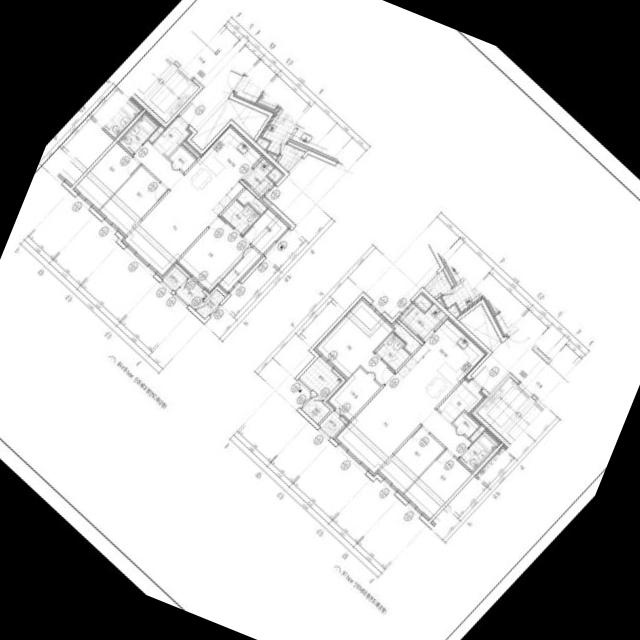background: (0, 0, 640, 640)
space_balconi: (299, 358, 341, 400), (175, 279, 206, 309)
space_bedroom: (316, 300, 393, 385), (178, 217, 250, 291), (403, 450, 471, 518), (99, 166, 166, 235), (378, 427, 444, 493), (74, 143, 139, 209)
space_dressroom: (328, 367, 380, 420), (218, 248, 260, 291)
space_elevator: (476, 377, 533, 434), (143, 65, 198, 123)
space_elevator_hall: (458, 304, 585, 419), (169, 32, 268, 150)
space_front: (437, 380, 483, 422), (153, 117, 189, 157)
space_kitchen: (396, 319, 484, 408), (179, 127, 261, 215)
space_living_room: (336, 373, 471, 473), (124, 141, 217, 275)
space_multipurpose_space: (398, 304, 446, 341), (242, 158, 273, 197)
space_other: (242, 209, 287, 254), (392, 322, 419, 354), (196, 290, 224, 319), (301, 396, 329, 424), (168, 145, 196, 172), (236, 189, 266, 214), (452, 412, 478, 437), (414, 294, 431, 312), (469, 426, 484, 442), (148, 126, 163, 142), (267, 168, 281, 182)
space_outdoor_room: (319, 412, 344, 438), (162, 266, 186, 291)
space_toilet: (458, 431, 498, 472), (118, 114, 158, 154), (374, 332, 409, 371), (221, 200, 259, 235)
